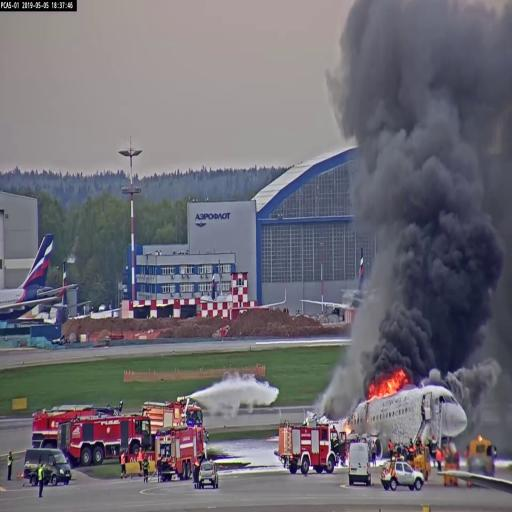fire: (371, 370, 409, 404)
smoke: (347, 24, 512, 230), (391, 229, 502, 369)
